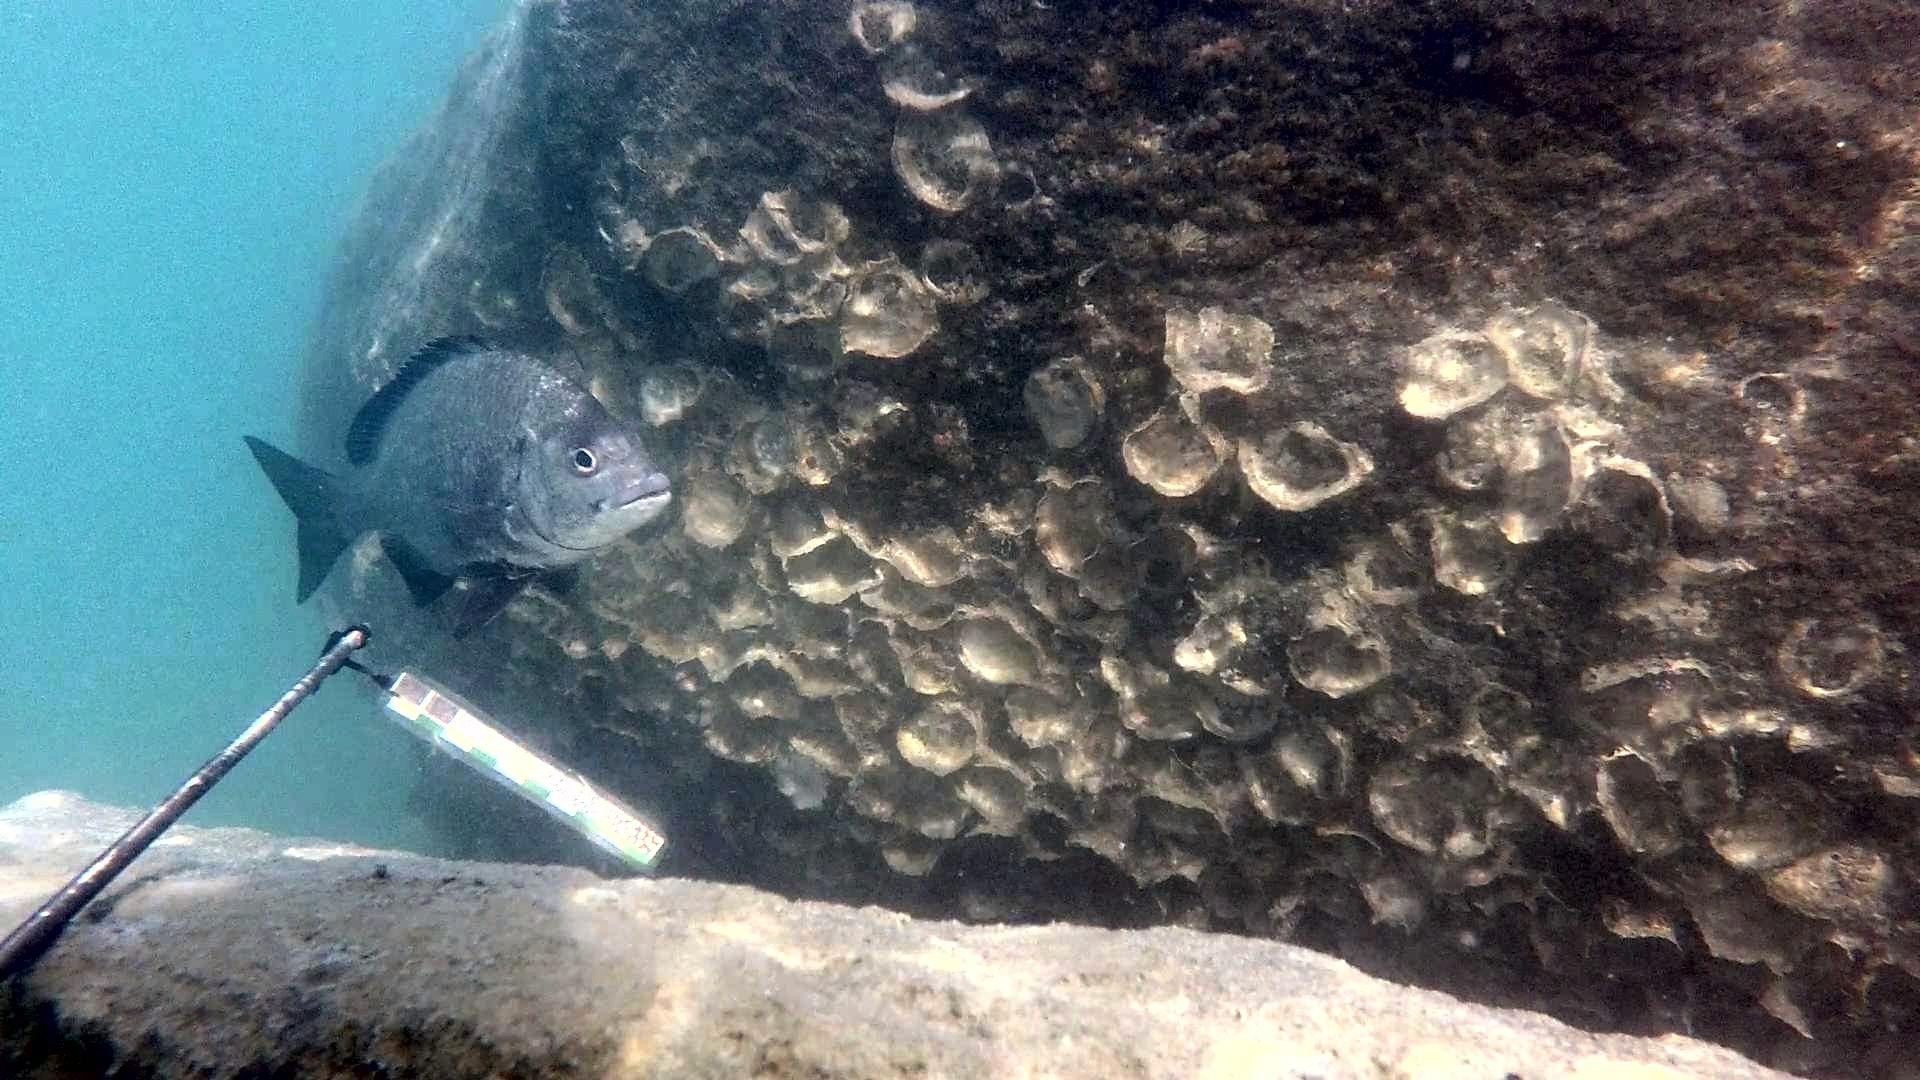acanthopagrus palmaris: (233, 320, 697, 644)
